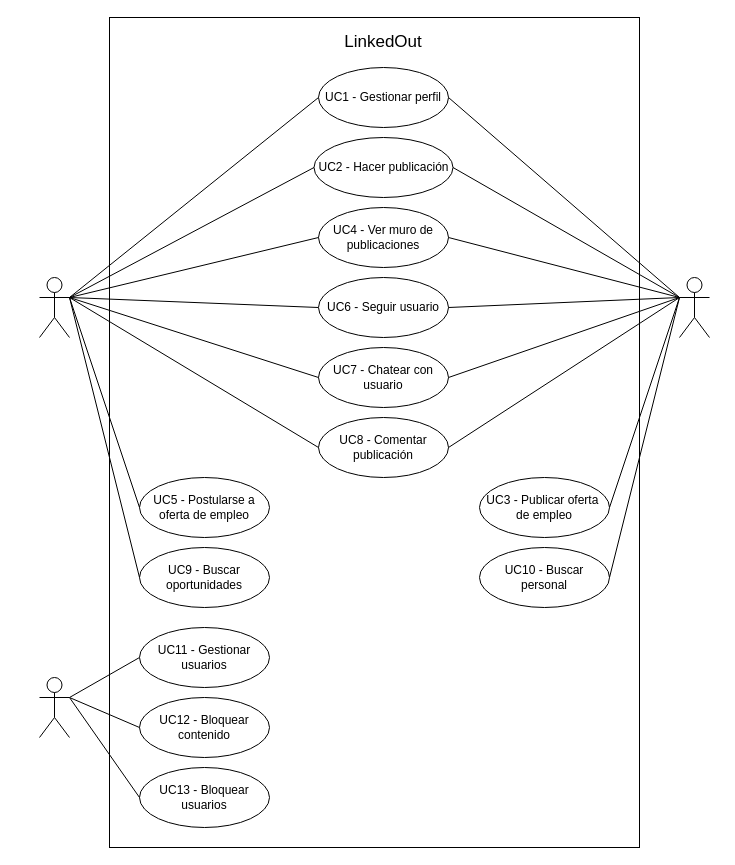
Some shapes in this 735 by 865 pixel diagram are drawn without their labels. The centre of each missing label's shape, as x and y in pixels:
Administrador: (x=54, y=707)
Empresa: (x=694, y=307)
Profesional: (x=54, y=307)
